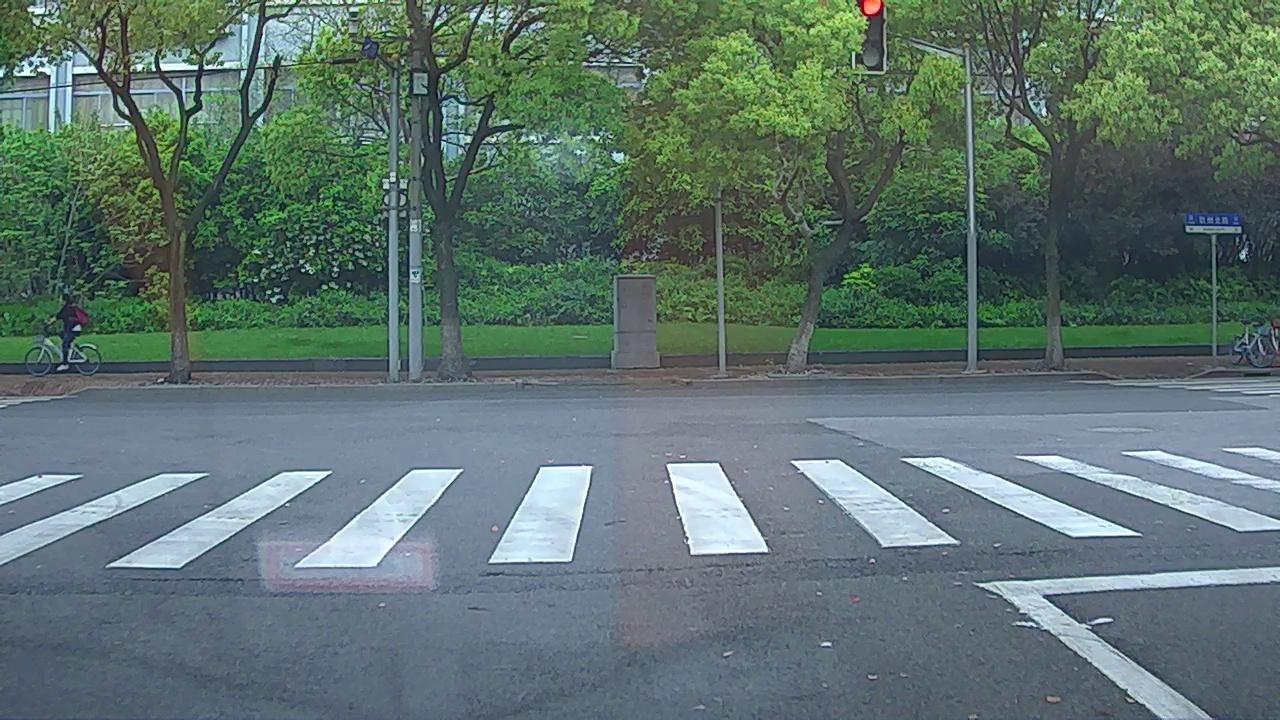traffic_light: (853, 1, 884, 71)
